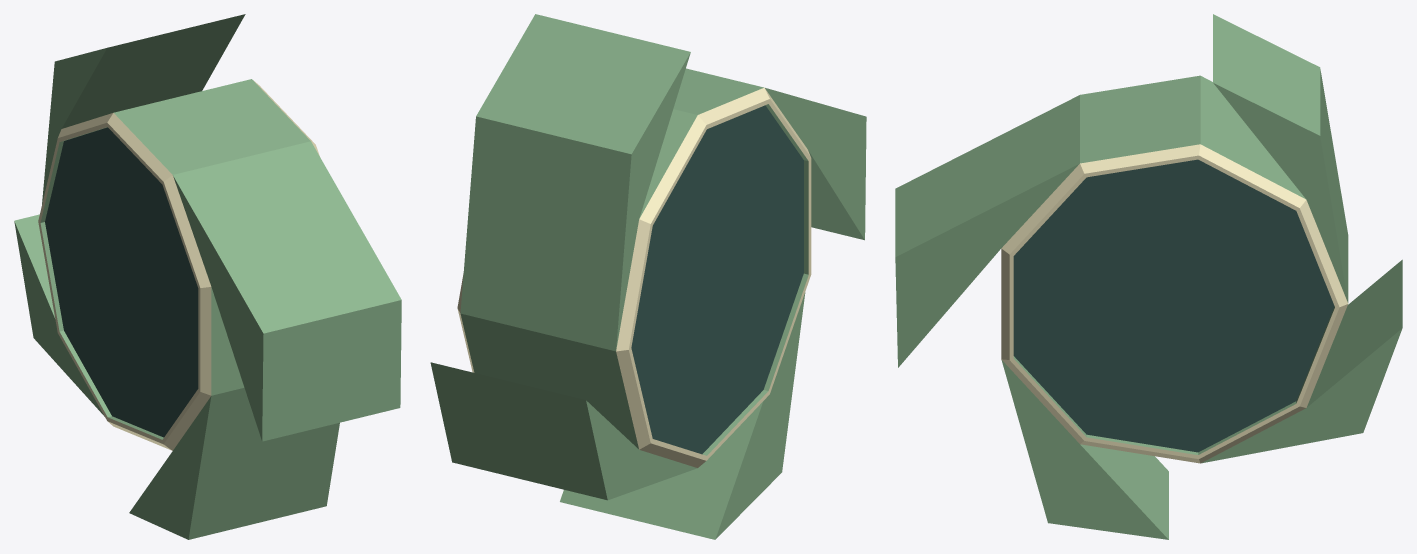
The model's file is propeller.glb.
3 renders of one model, left to right at view 1: azimuth 30°, elevation 25°; view 2: azimuth 150°, elevation 25°; view 3: azimuth 270°, elevation 25°, orthographic. The views are drawn at different scales.
Parts seen in each view (by area): view 1: Cylinder; view 2: Cylinder; view 3: Cylinder.
Boxes of the visible parts, x1,y1,x2,y2 form: Cylinder: (14,14,401,539); Cylinder: (430,14,866,539); Cylinder: (895,14,1402,539).
Bounding box in the file's own units: 1 × 2.82 × 2.84.
